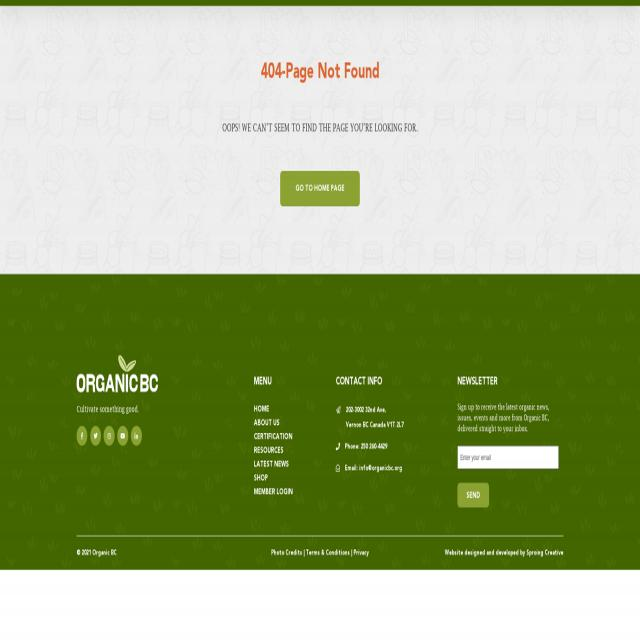button: (76, 356, 158, 392), (280, 171, 360, 205), (457, 482, 489, 508), (76, 426, 88, 446), (90, 426, 101, 446), (104, 426, 115, 446), (131, 426, 142, 446), (118, 426, 128, 446)
field: (457, 445, 559, 469)
